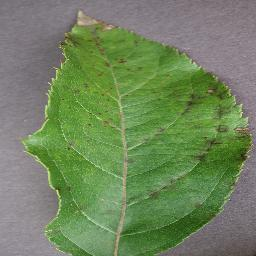apple healthy: (21, 7, 253, 255)
